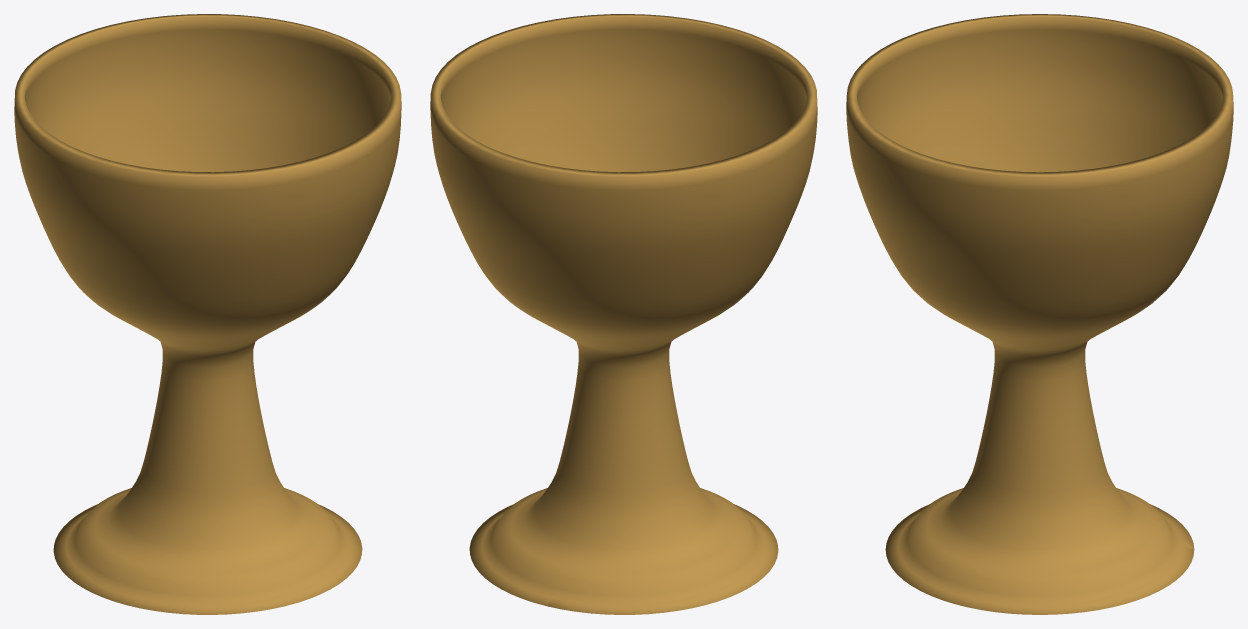
Rendered from cup.glb.
3 renders of one model, left to right at view 1: azimuth 30°, elevation 25°; view 2: azimuth 150°, elevation 25°; view 3: azimuth 270°, elevation 25°, orthographic.
Visible parts, largest first — view 1: cup; view 2: cup; view 3: cup.
Part boxes in pixels (box(x1,y1,x2,y2)): cup: box(14, 14, 401, 614); cup: box(430, 14, 817, 614); cup: box(846, 14, 1233, 614).
Size of the model in its own units: 0.3358 by 0.4374 by 0.3358.
